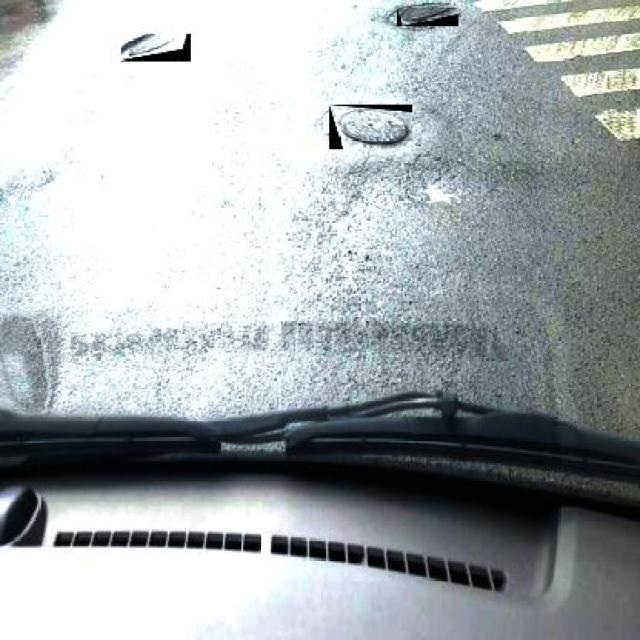Manhole: (330, 104, 412, 150), (120, 33, 191, 62), (396, 8, 458, 26)
